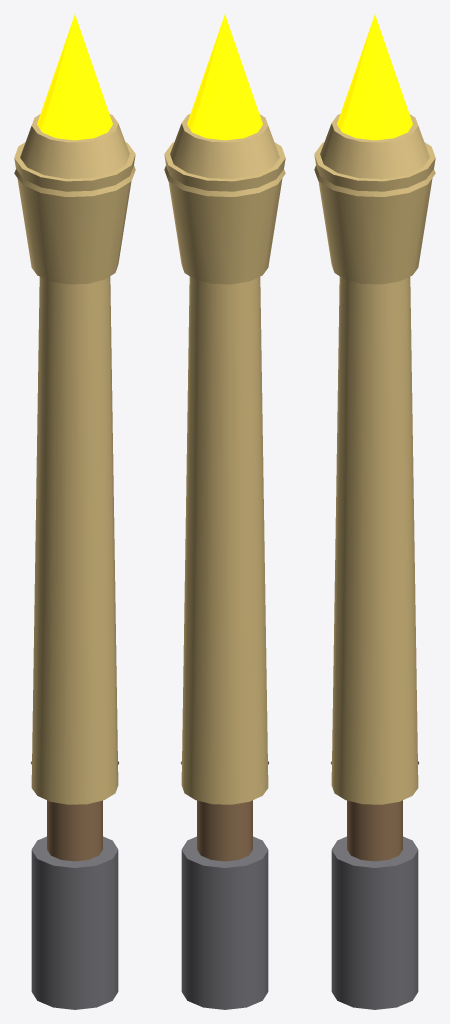
File: flamethrower_pipe.glb
3 renders of one model, left to right at view 1: azimuth 30°, elevation 25°; view 2: azimuth 150°, elevation 25°; view 3: azimuth 330°, elevation 25°, orthographic.
Visible parts, largest first — view 1: barrel, tank, flame, grip; view 2: barrel, tank, flame, grip; view 3: barrel, tank, flame, grip.
Part boxes in pixels (x1,y1,x2,y2): barrel: (14, 114, 135, 804); tank: (31, 836, 118, 1009); flame: (37, 14, 112, 140); grip: (31, 761, 118, 861); barrel: (164, 114, 285, 804); tank: (181, 836, 268, 1009); flame: (187, 14, 262, 140); grip: (181, 761, 268, 861); barrel: (314, 114, 435, 804); tank: (331, 836, 418, 1009); flame: (337, 14, 412, 140); grip: (331, 761, 418, 861).
Size of the model in its own units: 0.14 by 1.24 by 0.1365.
